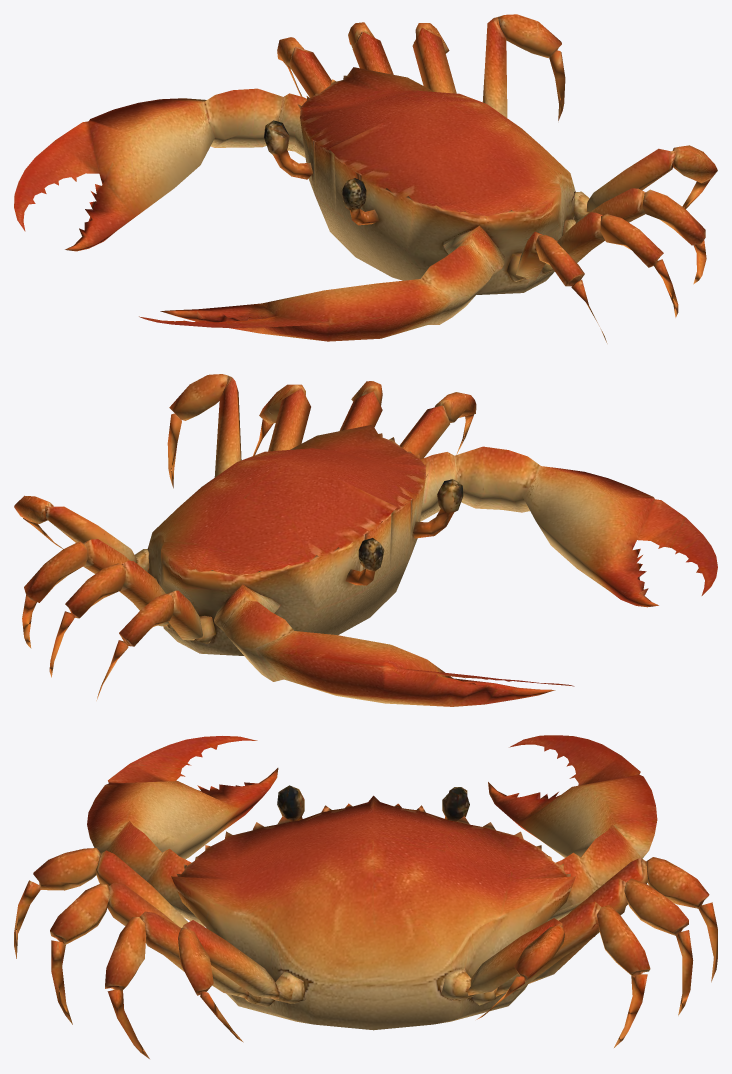
File: 螃蟹之影.glb
The picture shows the model from 3 angles, top to bottom: view 1: azimuth 30°, elevation 25°; view 2: azimuth 150°, elevation 25°; view 3: azimuth 270°, elevation 25°; orthographic projection. The views are drawn at different scales.
Parts seen in each view (by area): view 1: tripo_node_ef2363b8-d6b7-43ba-ac92-0e17a67ce136; view 2: tripo_node_ef2363b8-d6b7-43ba-ac92-0e17a67ce136; view 3: tripo_node_ef2363b8-d6b7-43ba-ac92-0e17a67ce136.
Boxes of the visible parts, x1,y1,x2,y2 form: tripo_node_ef2363b8-d6b7-43ba-ac92-0e17a67ce136: [14, 14, 717, 343]; tripo_node_ef2363b8-d6b7-43ba-ac92-0e17a67ce136: [14, 374, 717, 706]; tripo_node_ef2363b8-d6b7-43ba-ac92-0e17a67ce136: [14, 735, 717, 1058].
Size of the model in its own units: 0.959 by 0.2598 by 0.998.
1 material, 1 textured.
